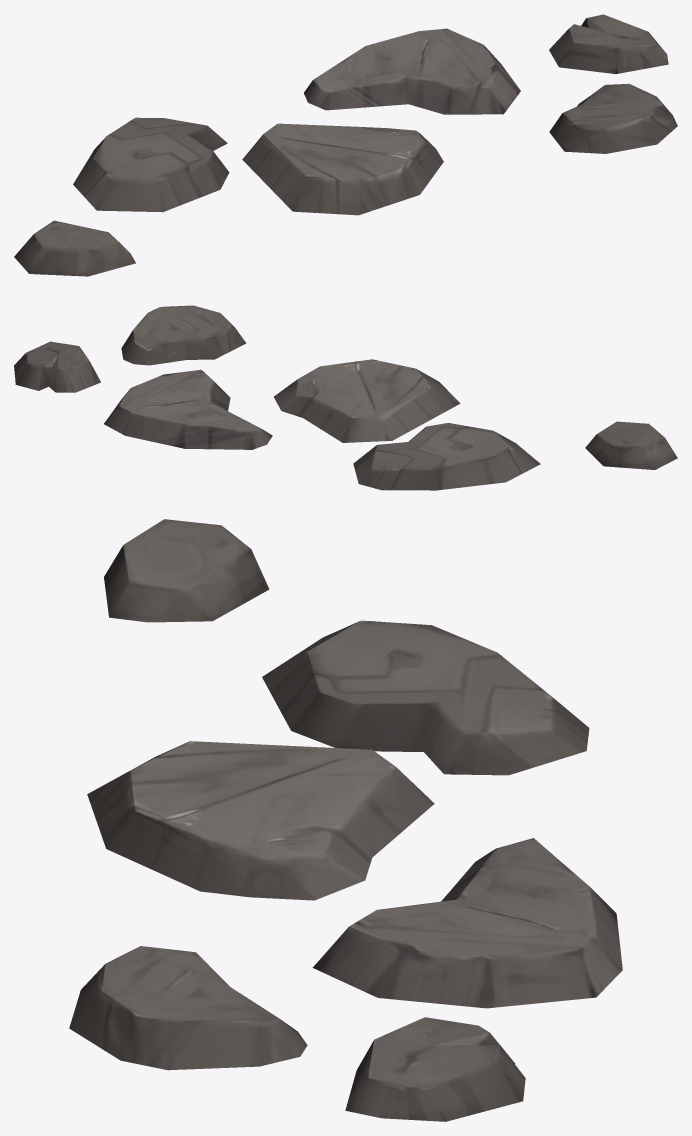
File: rock_small_05.fbx
3 views of the same model, one above another, from view 1: azimuth 30°, elevation 25°; view 2: azimuth 150°, elevation 25°; view 3: azimuth 270°, elevation 25° (orthographic). The views are drawn at different scales.
Visible parts, largest first — view 1: polySurface1; view 2: polySurface1; view 3: polySurface1.
Part boxes in pixels (left/top/right/bottom): polySurface1: left=14, top=14, right=677, bottom=276; polySurface1: left=14, top=305, right=677, bottom=490; polySurface1: left=69, top=519, right=622, bottom=1121.
Bounding box in the file's own units: 649 × 24.21 × 262.
Materials: 1 (1 with a texture image).
